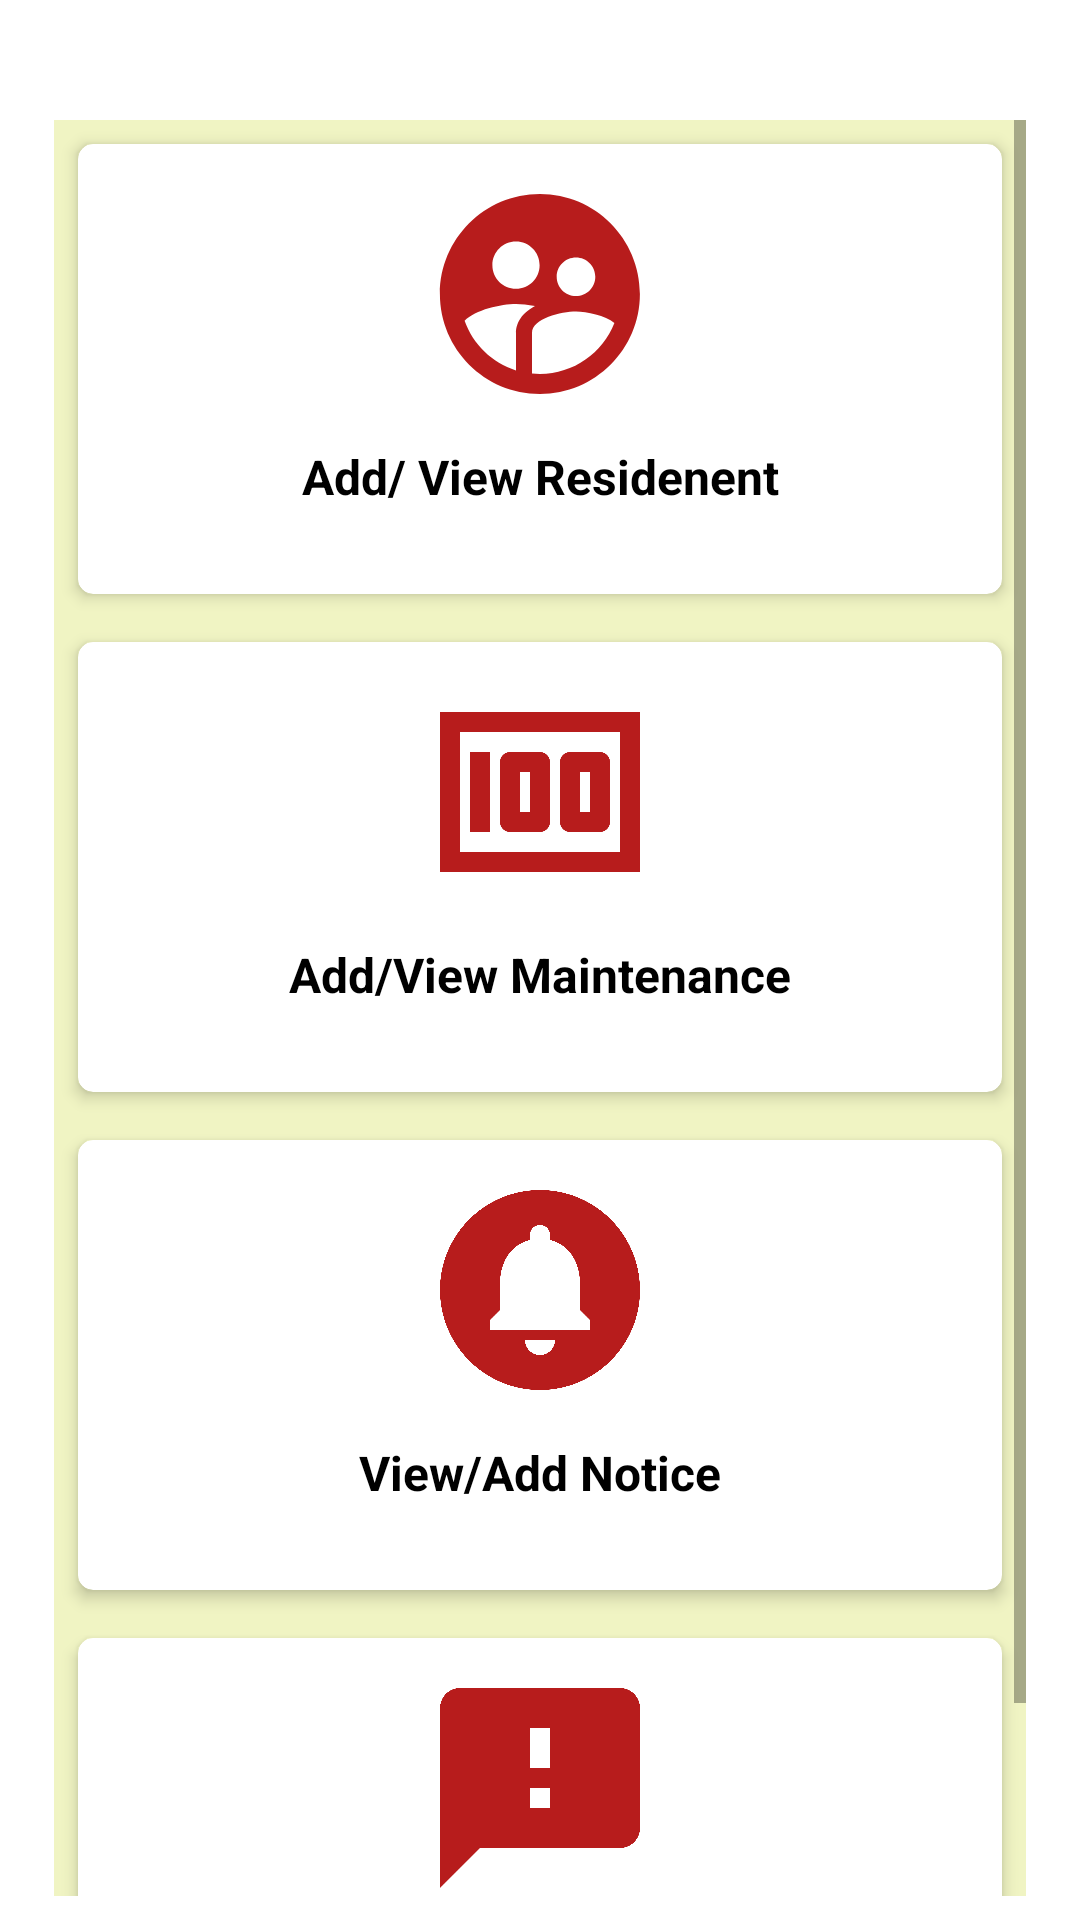

Where to tap for icons on this 1080w x 1920h app screen, as (x,y):
feedback: (540,1788)
username: (539,294)
